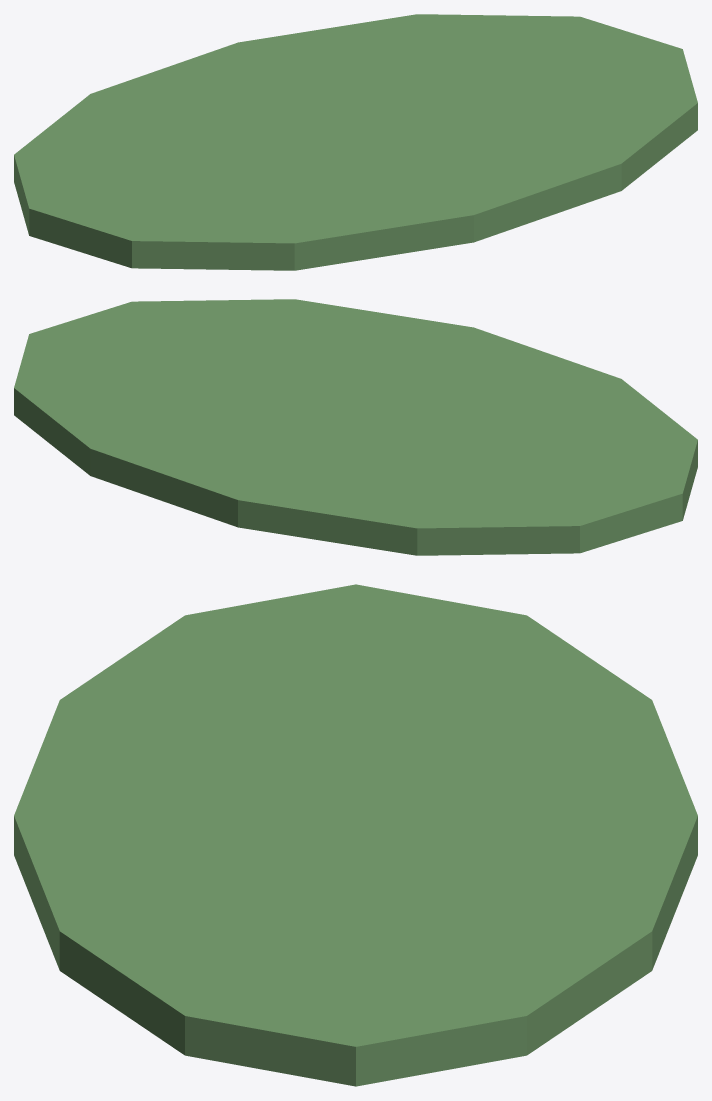
Rendered from ground_disc_inner.glb.
3 views of the same model, one above another, from view 1: azimuth 30°, elevation 25°; view 2: azimuth 150°, elevation 25°; view 3: azimuth 270°, elevation 25° (orthographic). The views are drawn at different scales.
Parts seen in each view (by area): view 1: ground_disc_inner_root; view 2: ground_disc_inner_root; view 3: ground_disc_inner_root.
Boxes of the visible parts, left/top/right/bottom form: ground_disc_inner_root: left=14, top=14, right=697, bottom=270; ground_disc_inner_root: left=14, top=299, right=697, bottom=555; ground_disc_inner_root: left=14, top=584, right=697, bottom=1086.
Bounding box in the file's own units: 5 × 0.2 × 3.13.
